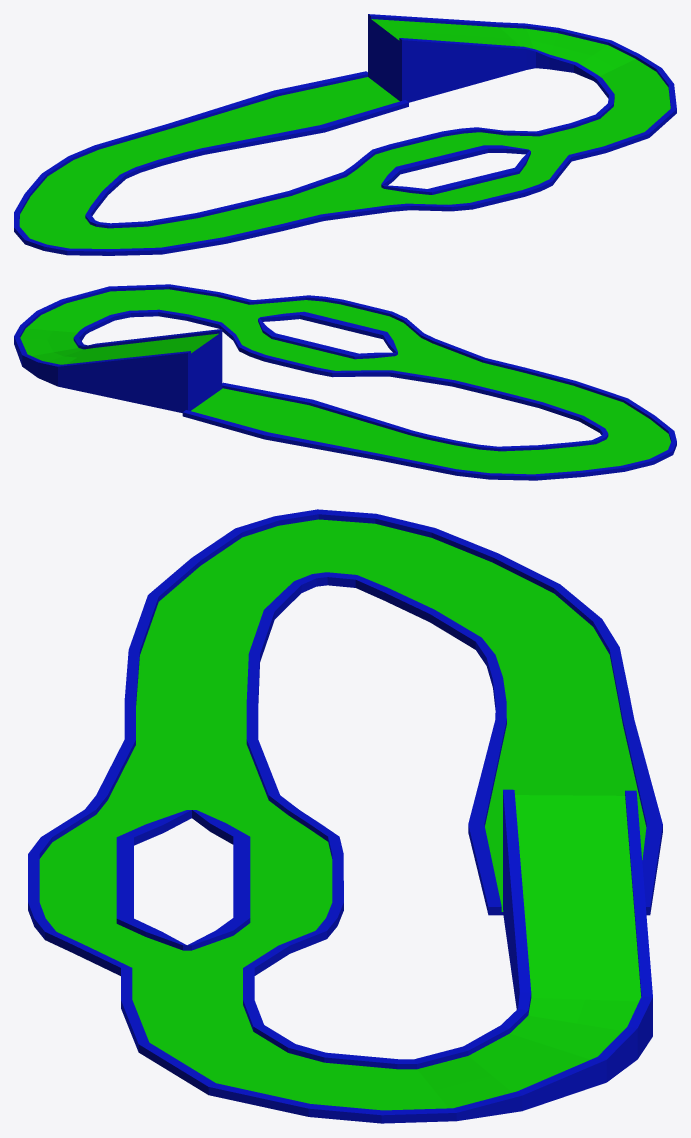
Rendered from High_Jump.dae.
3 renders of one model, top to bottom at view 1: azimuth 30°, elevation 25°; view 2: azimuth 150°, elevation 25°; view 3: azimuth 270°, elevation 25°, orthographic. The views are drawn at different scales.
Parts seen in each view (by area): view 1: Cube; view 2: Cube; view 3: Cube.
Part boxes in pixels (box(x1,y1,x2,y2)): Cube: box(14, 14, 676, 255); Cube: box(14, 284, 676, 480); Cube: box(28, 509, 662, 1123).
Size of the model in its own units: 249 by 110 by 23.55.
